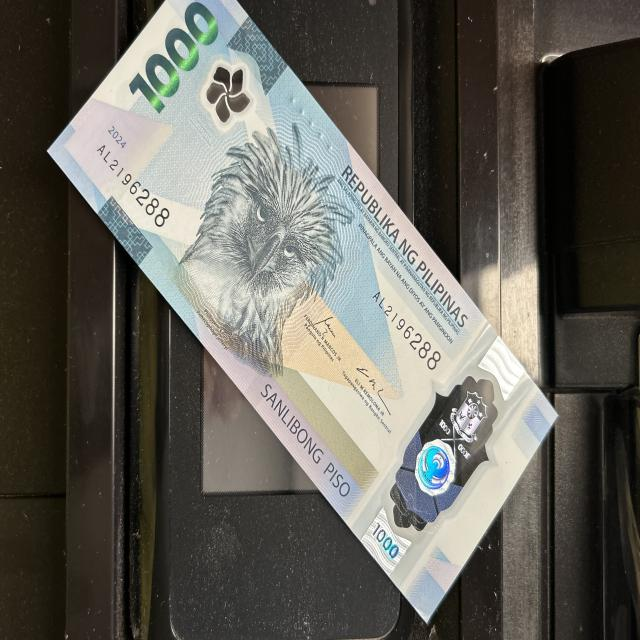clear_window: (394, 344, 496, 572)
eagle: (183, 129, 341, 345)
sampaguita: (200, 66, 250, 132)
serial_number: (91, 137, 170, 239), (360, 284, 444, 372)
value: (104, 1, 249, 102)
